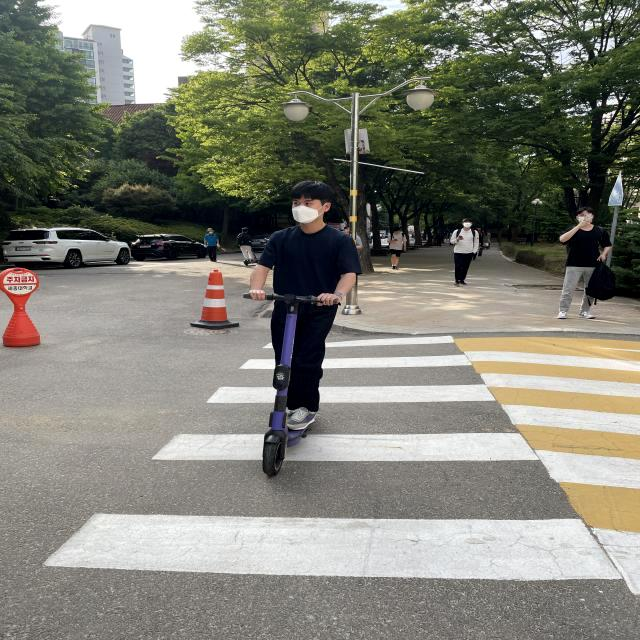bare_head: (284, 172, 351, 226)
human: (264, 169, 324, 422)
kickboard: (249, 419, 343, 475)
